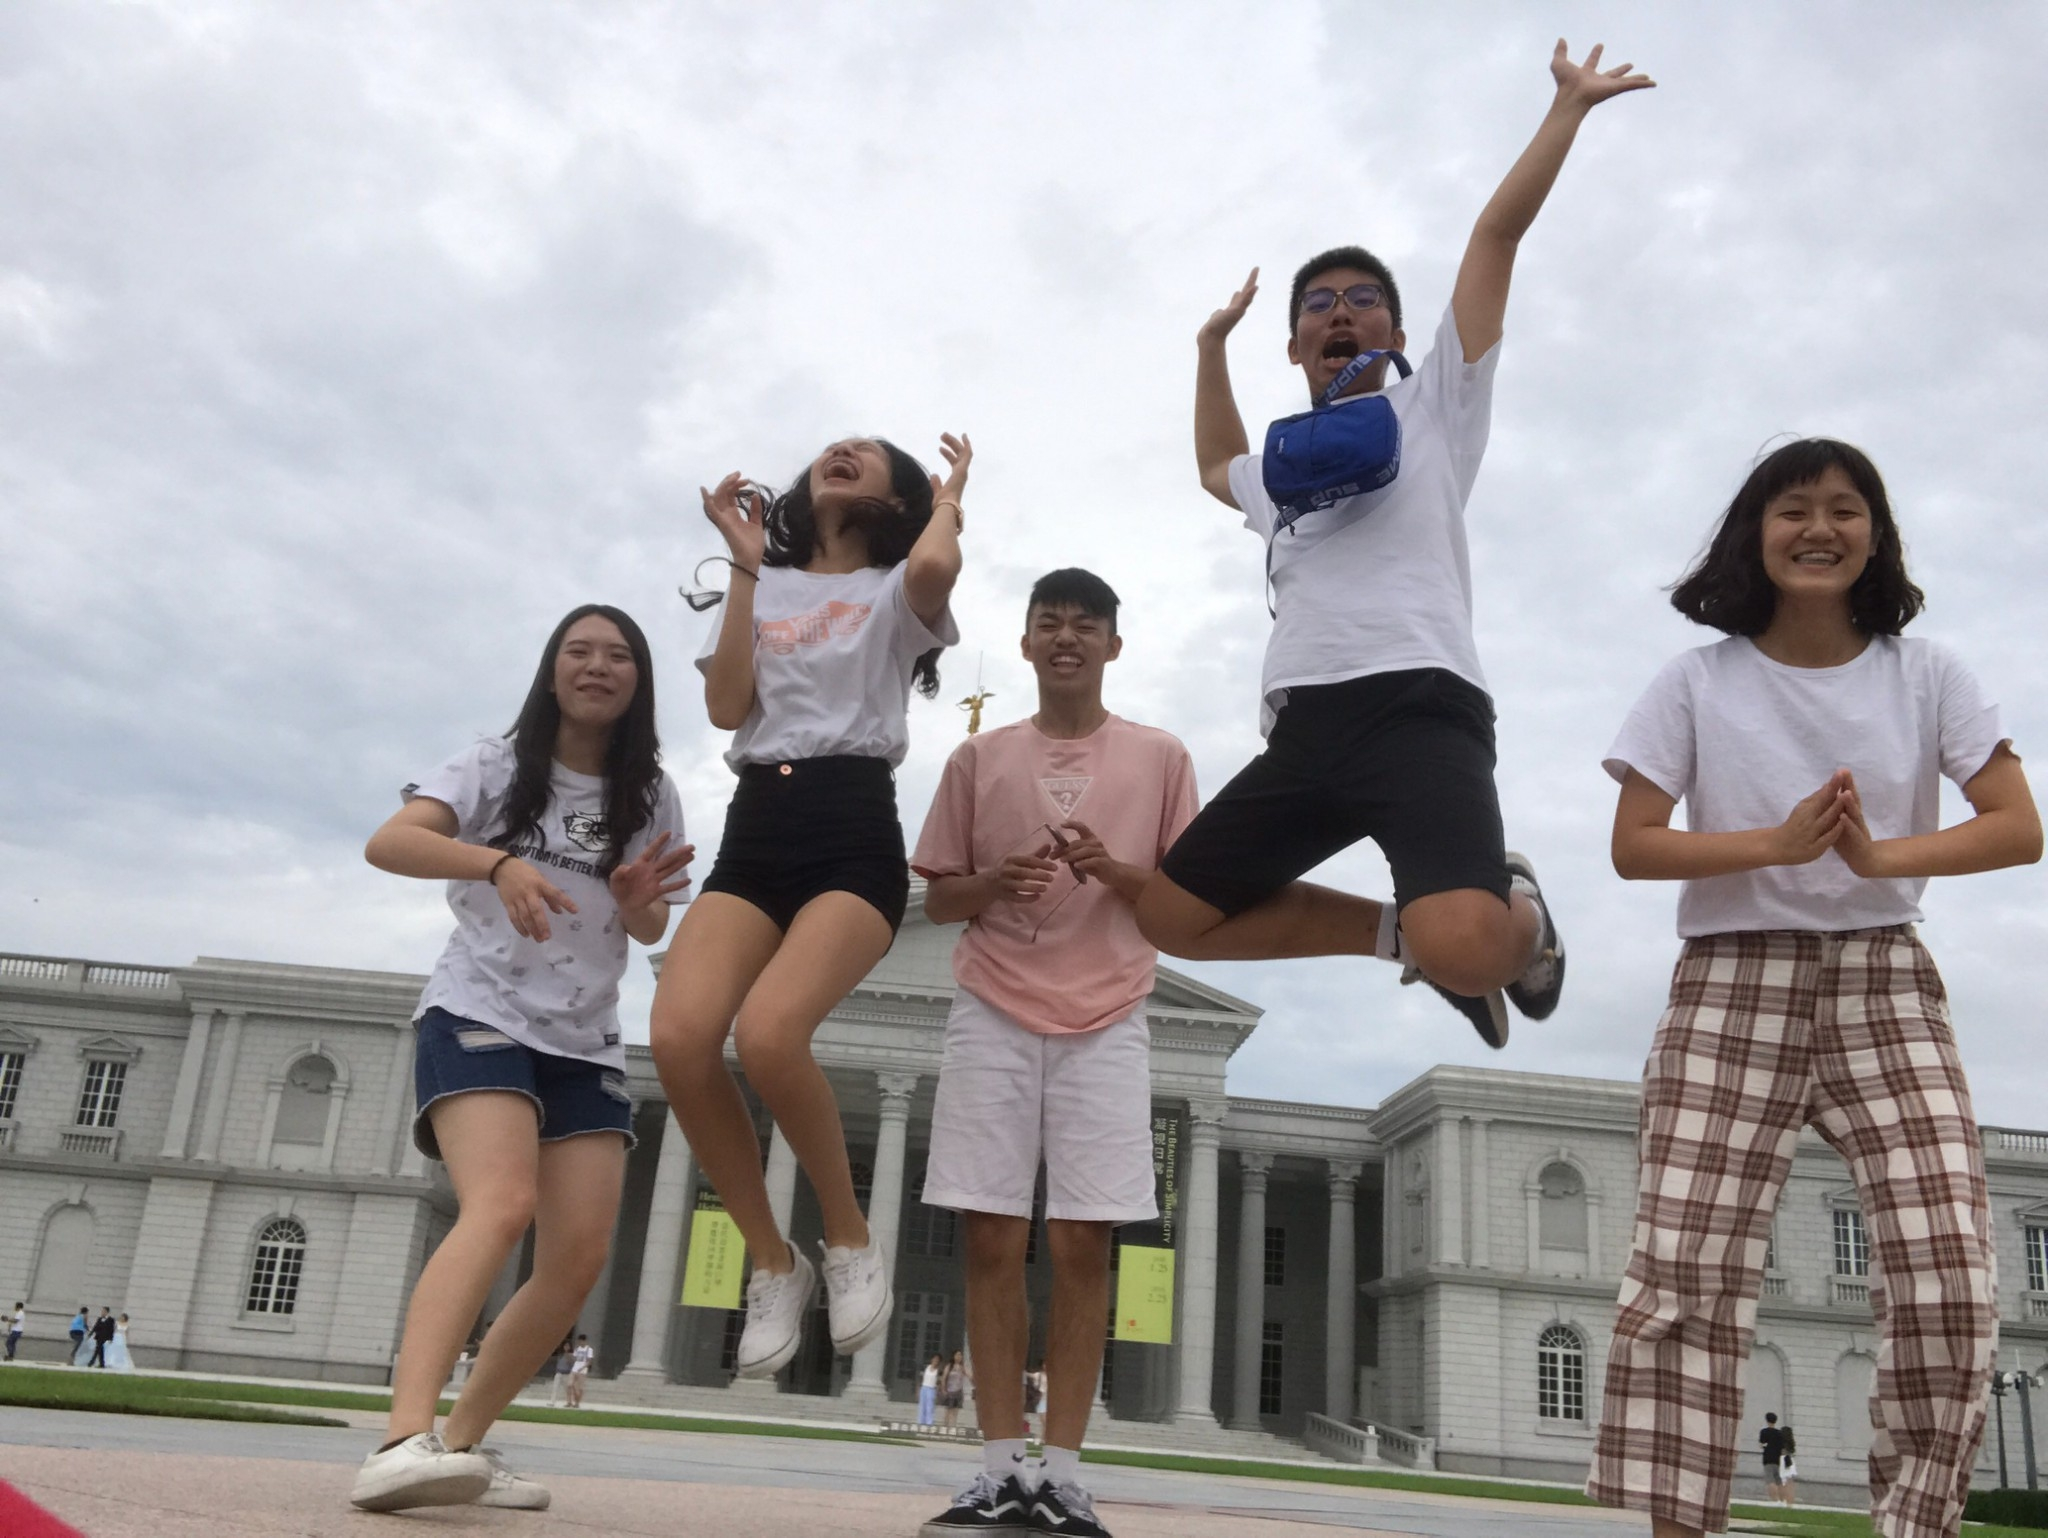people: (1625, 441, 2022, 1538), (1207, 250, 1510, 1003), (672, 438, 893, 1364), (399, 603, 610, 1523), (960, 567, 1134, 1538)
